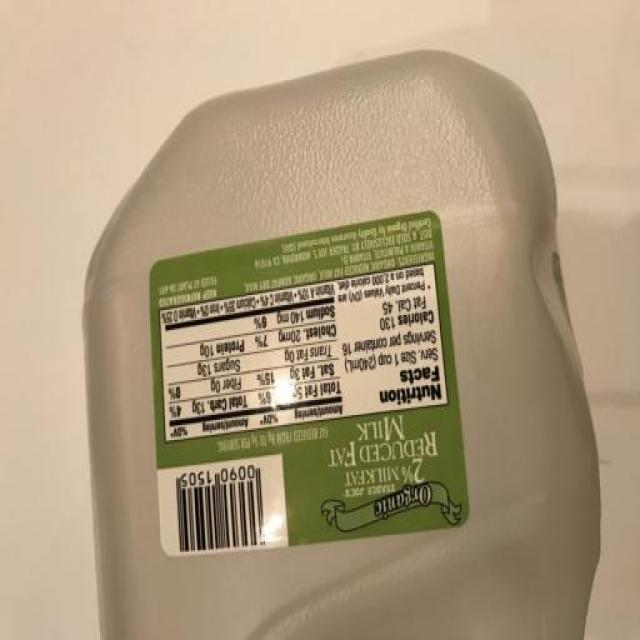plastic_bag: (74, 46, 622, 640)
